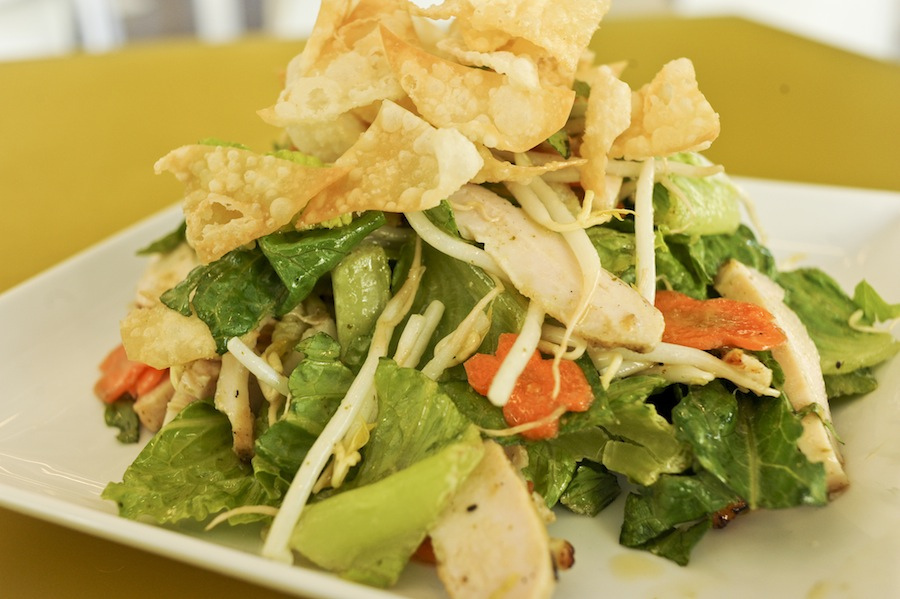chopped lettuce: (164, 214, 798, 546)
